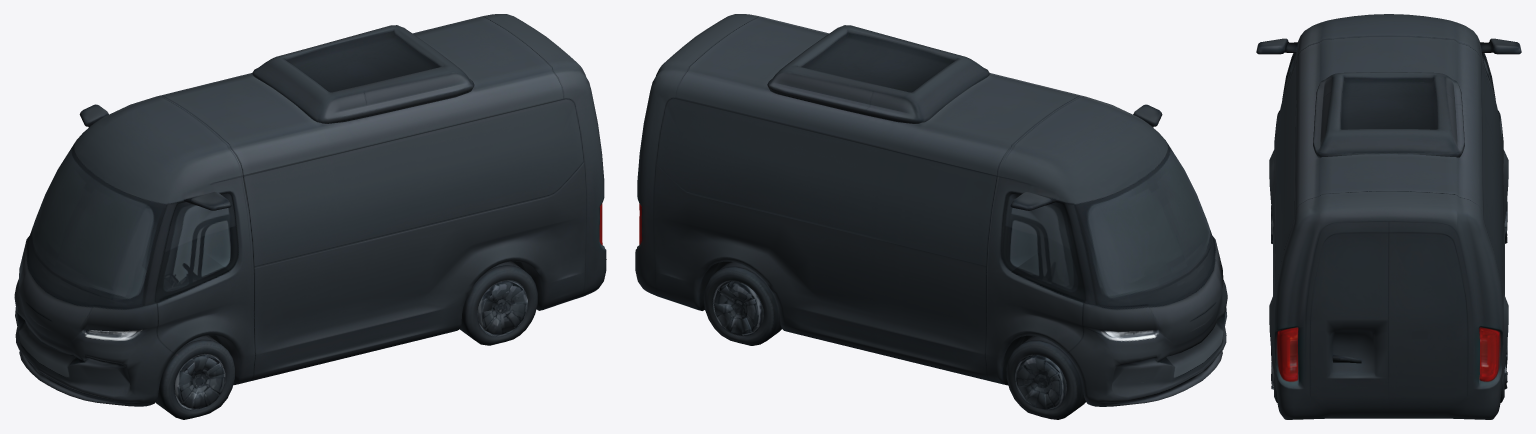
Rendered from Bus_Modern.glb.
The picture shows the model from 3 angles, left to right: view 1: azimuth 30°, elevation 25°; view 2: azimuth 150°, elevation 25°; view 3: azimuth 270°, elevation 25°; orthographic projection.
Visible parts, largest first — view 1: tripo_node_e3ebafd7-41fe-4557-a333-ad53b050030d; view 2: tripo_node_e3ebafd7-41fe-4557-a333-ad53b050030d; view 3: tripo_node_e3ebafd7-41fe-4557-a333-ad53b050030d.
Boxes of the visible parts, box(x1,y1,x2,y2) form: tripo_node_e3ebafd7-41fe-4557-a333-ad53b050030d: box(14, 14, 606, 419); tripo_node_e3ebafd7-41fe-4557-a333-ad53b050030d: box(635, 14, 1227, 419); tripo_node_e3ebafd7-41fe-4557-a333-ad53b050030d: box(1256, 14, 1521, 419).
Size of the model in its own units: 1 by 0.4812 by 0.4499.
1 material, 1 textured.
